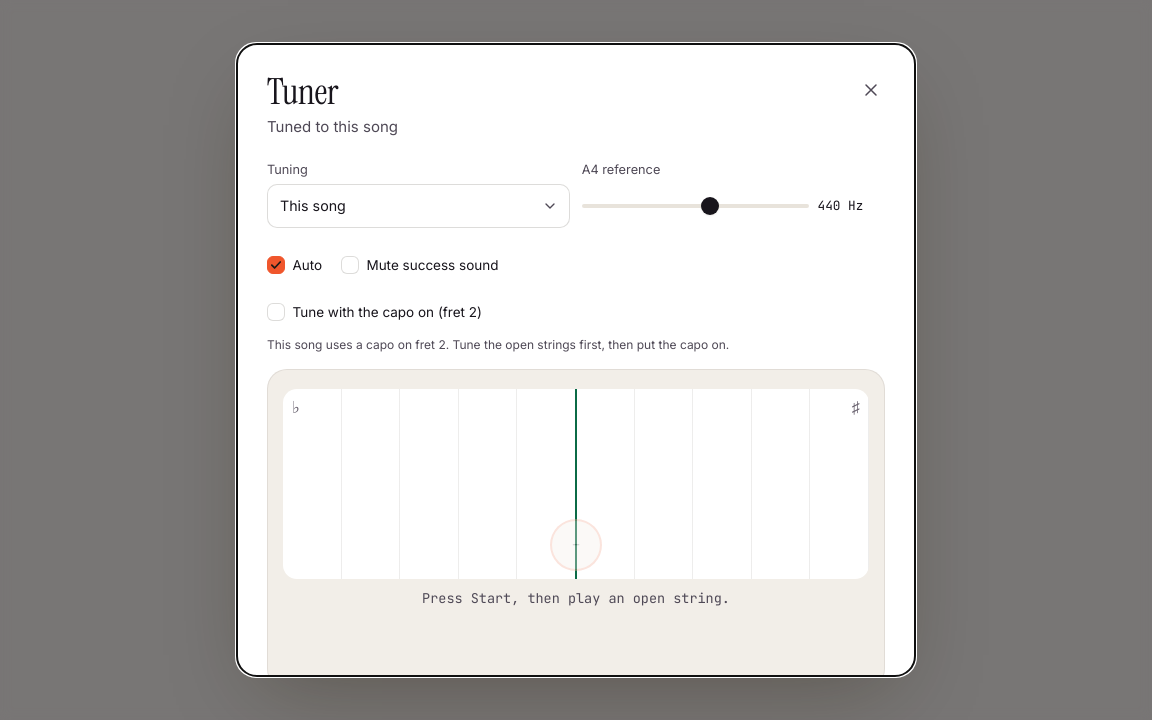
Test: TunerSheet › offers the capo and tunes the raised pitches on request
Click the checkbox with test id "tuner-capo" showing "Tune with the capo on (fret 2)". click: (276, 312)
box: [267,303,285,321]
(page scrolled)
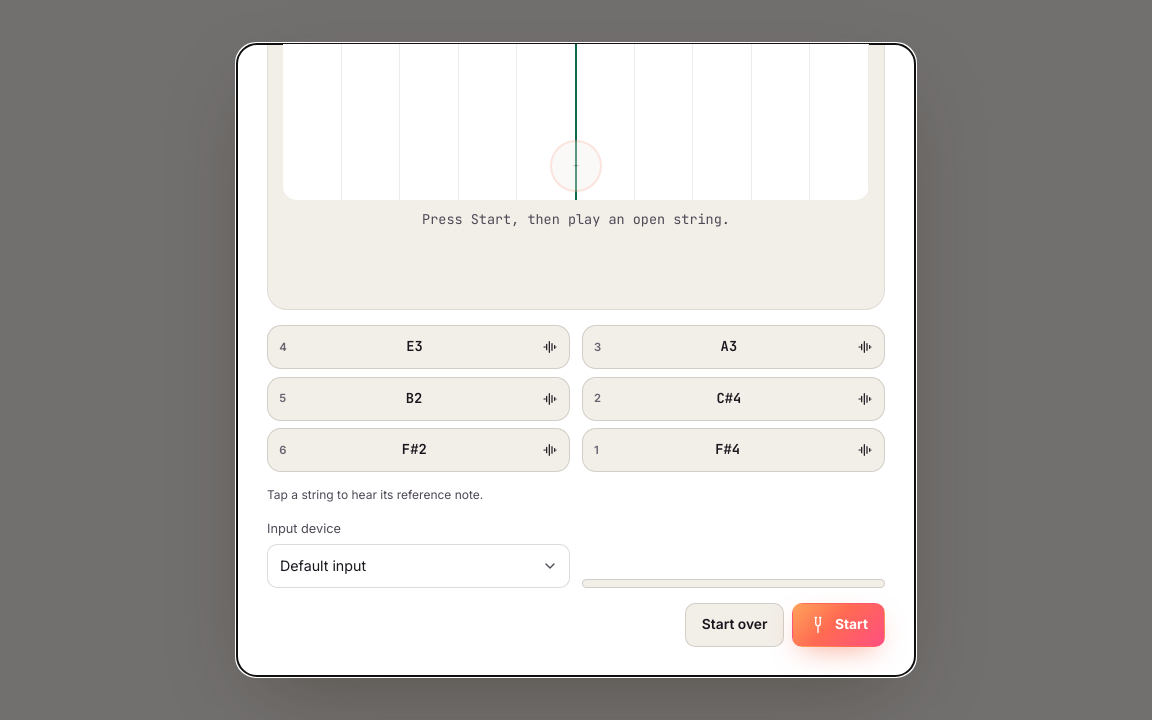
Now the button with test id "tuner-string-5" shows "F#2", box [267,428,570,472]
